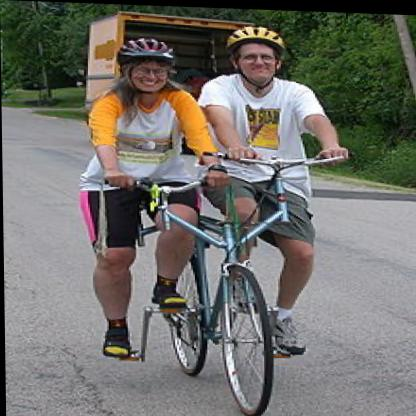With Helmet: (221, 23, 287, 82), (116, 35, 175, 91)
